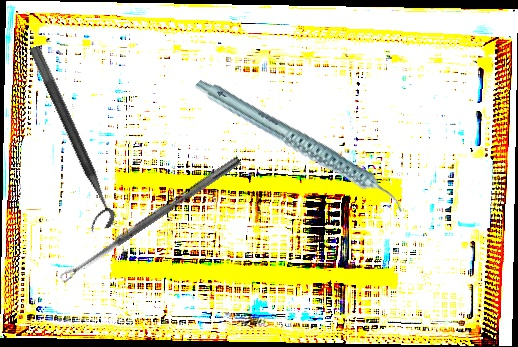Fixation Ring: (13, 44, 120, 235)
Handpiece: (193, 41, 407, 252)
Surgical Spoon: (58, 155, 242, 283)
